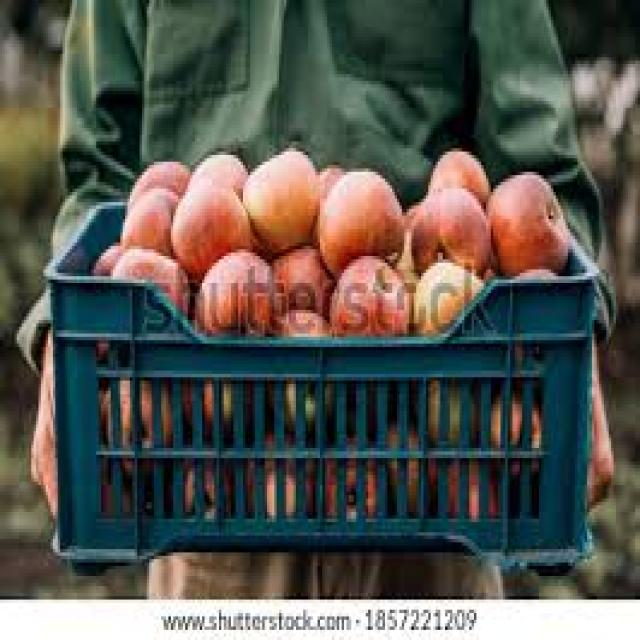basket: (38, 203, 601, 574)
